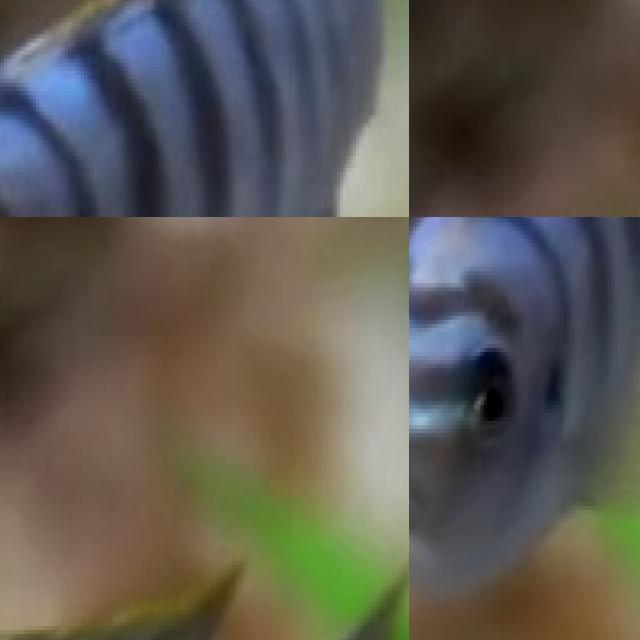fish: (409, 217, 640, 619), (0, 0, 409, 217), (0, 569, 409, 640)
